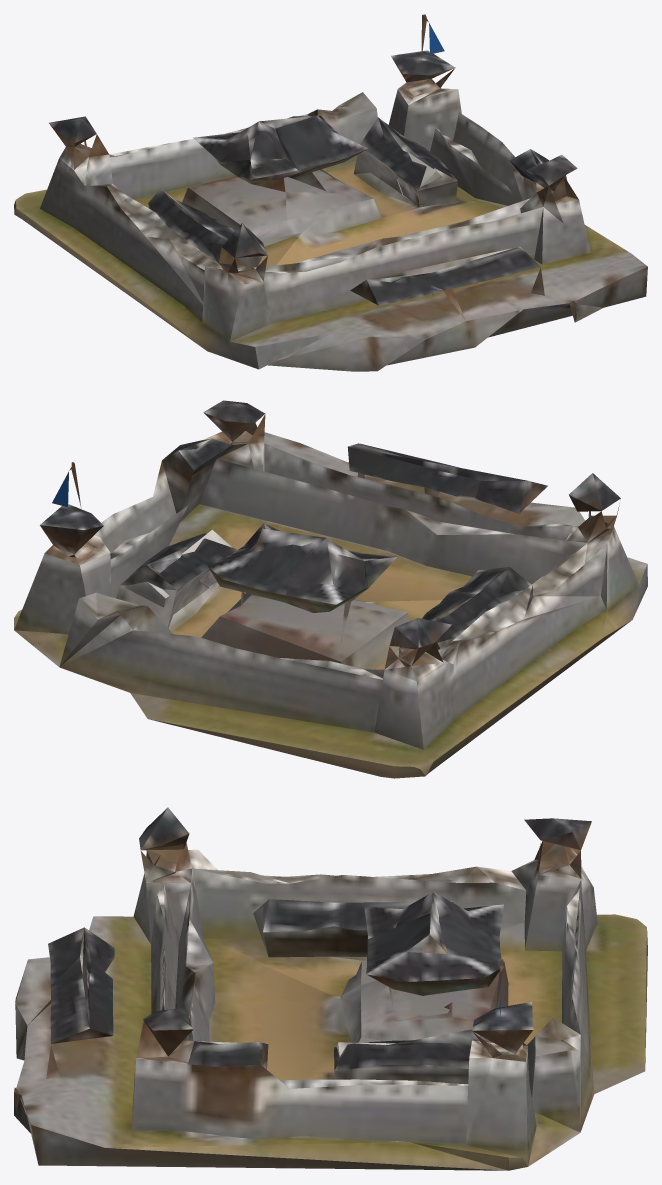
The model's file is camp_joseon_3_far.glb.
The picture shows the model from 3 angles, top to bottom: view 1: azimuth 30°, elevation 25°; view 2: azimuth 150°, elevation 25°; view 3: azimuth 270°, elevation 25°; orthographic projection. The views are drawn at different scales.
Parts seen in each view (by area): view 1: camp_joseon_3_far; view 2: camp_joseon_3_far; view 3: camp_joseon_3_far.
Boxes of the visible parts, x1,y1,x2,y2 form: camp_joseon_3_far: (14,14,647,371); camp_joseon_3_far: (14,400,647,778); camp_joseon_3_far: (14,807,647,1170).
Size of the model in its own units: 0.9097 by 0.3255 by 1.
1 material, 1 textured.
